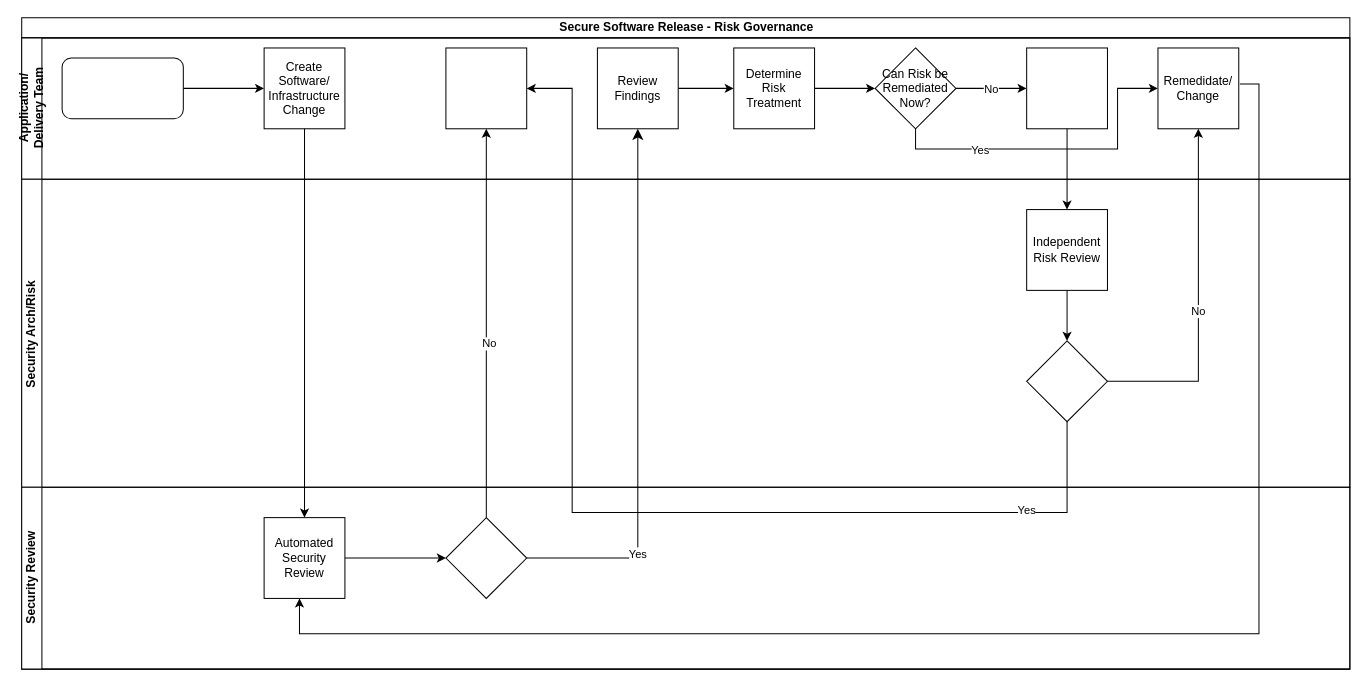
Image size: 1368x687. Some labels were removed from this diagram. Each missing label, with the centre of its shape:
"Proceed with Release" goes at point 486,88.
"Proposed Temporary Risk Treatment" goes at point 1066,88.
"Risk Identified?" goes at point 486,557.
"Start" goes at point 122,88.
"Temporary Risk Accepted?" goes at point 1066,381.
